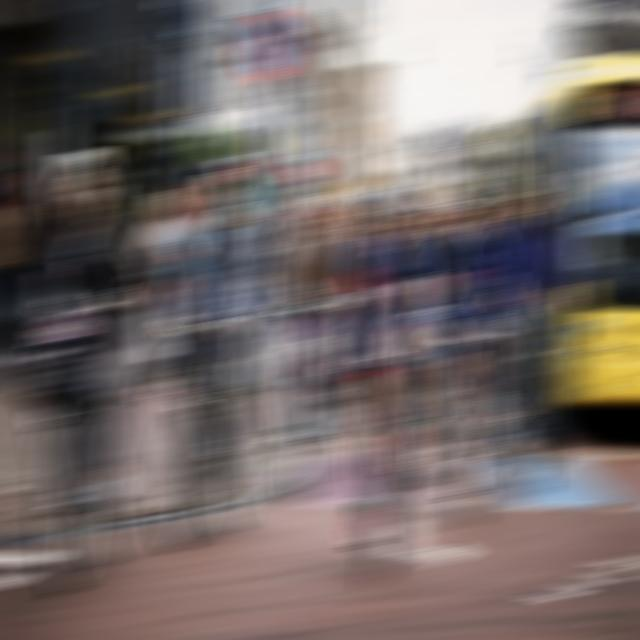With Helmet: (363, 177, 414, 255), (444, 183, 495, 244)
Without Helmet: (54, 154, 114, 221), (198, 151, 246, 221), (510, 168, 553, 218)
